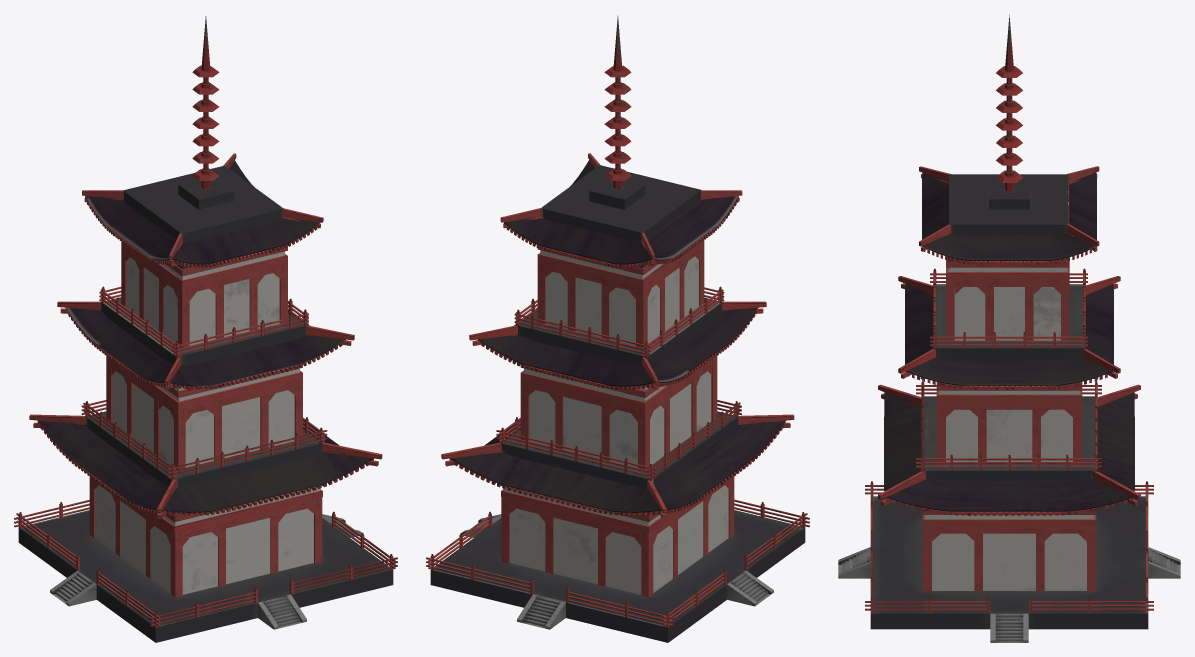
The model's file is templo grande pra lod.fbx.
3 renders of one model, left to right at view 1: azimuth 30°, elevation 25°; view 2: azimuth 150°, elevation 25°; view 3: azimuth 270°, elevation 25°, orthographic.
Parts seen in each view (by area): view 1: TEMPLO_LOD0; view 2: TEMPLO_LOD0; view 3: TEMPLO_LOD0.
Boxes of the visible parts, x1=… form: TEMPLO_LOD0: x1=14, y1=16, x2=397, y2=642; TEMPLO_LOD0: x1=426, y1=15, x2=809, y2=642; TEMPLO_LOD0: x1=838, y1=14, x2=1180, y2=642.
Size of what is drawn, in the model's own units: 2467 by 4425 by 2467.
